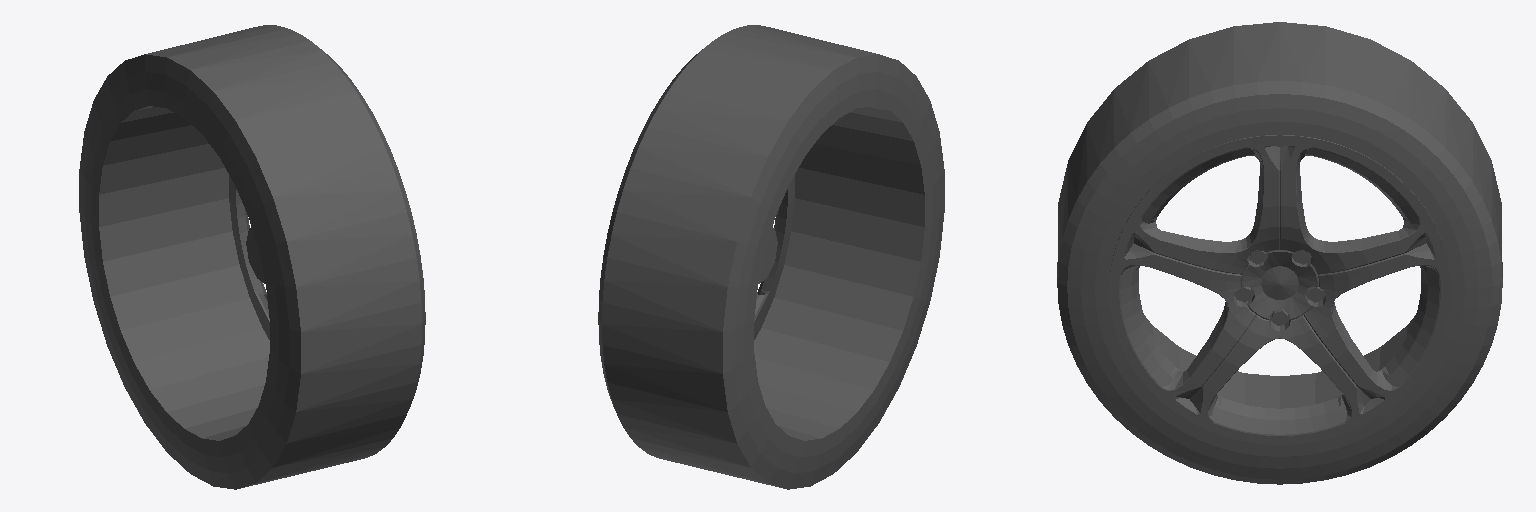
File: california_wheel.obj
The picture shows the model from 3 angles: view 1: azimuth 30°, elevation 25°; view 2: azimuth 150°, elevation 25°; view 3: azimuth 270°, elevation 25°; orthographic projection.
Parts seen in each view (by area): view 1: w2.001; view 2: w2.001; view 3: w2.001.
Boxes of the visible parts, <box> form: w2.001: <box>79,25,425,489</box>; w2.001: <box>598,25,944,489</box>; w2.001: <box>1057,22,1502,484</box>.
Size of the model in its own units: 0.9149 by 2.47 by 2.46.